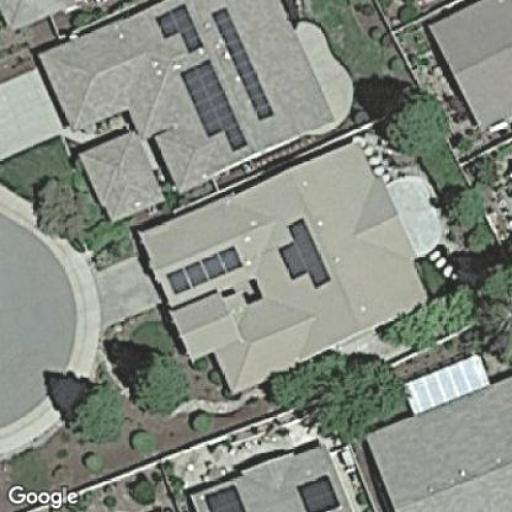solar-panel: (209, 5, 275, 124), (177, 60, 249, 152), (274, 214, 334, 291), (165, 242, 244, 297), (153, 0, 205, 54), (293, 471, 342, 511), (200, 481, 248, 511)
